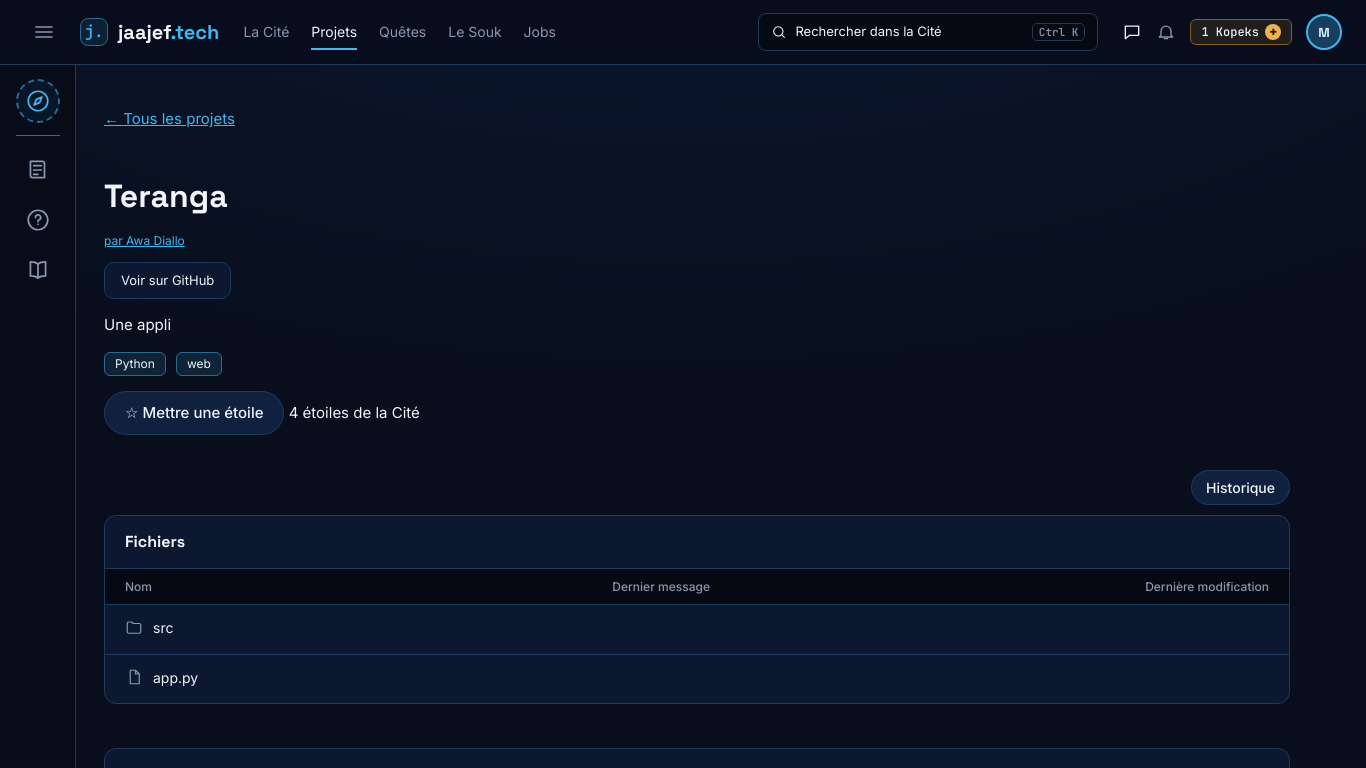
Scenario: Project page › stars and unstars with the count following
Click the button "☆ Mettre une étoile". click: [194, 413]
box: [104,390,284,435]
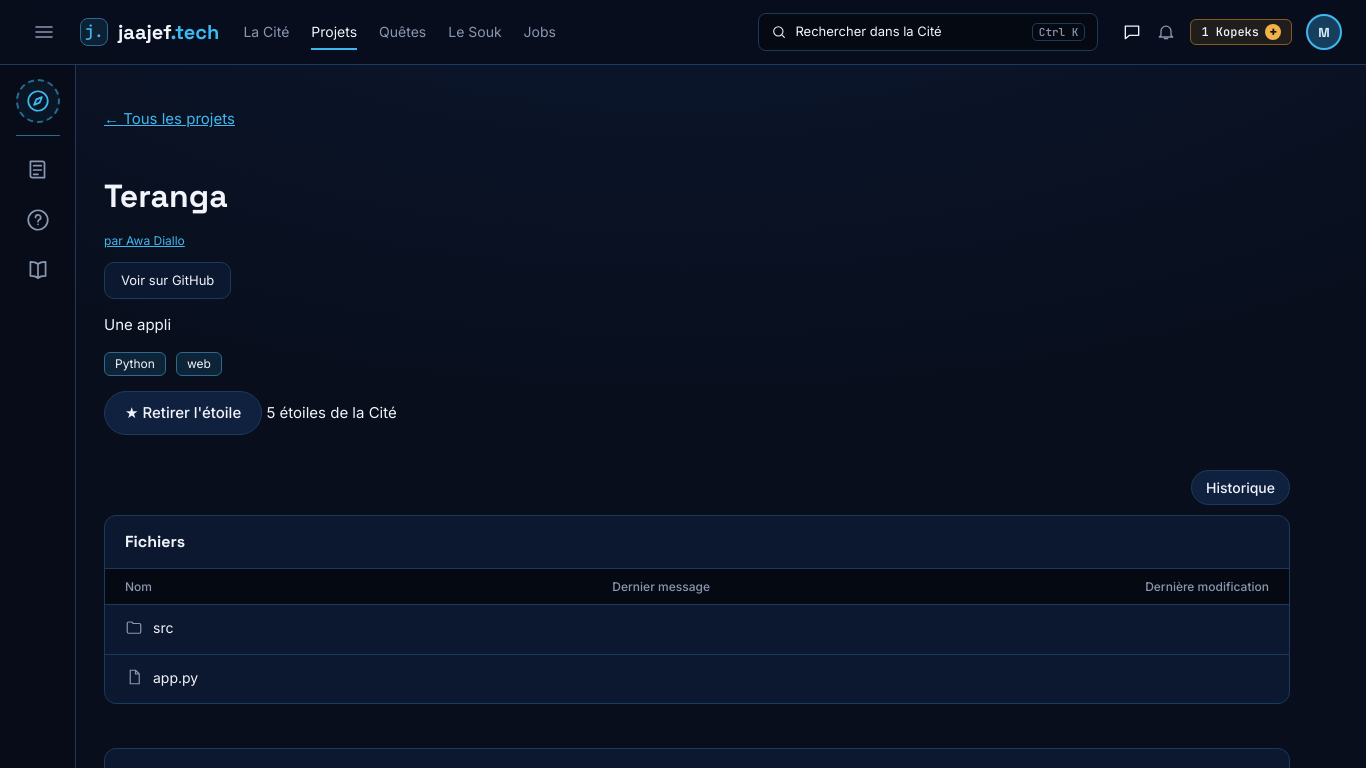
Expected: the text "5 étoiles de la Cité" is shown, [266,402,397,422]
Click the button "★ Retirer l'étoile". click: [183, 413]
box: [104,390,262,435]
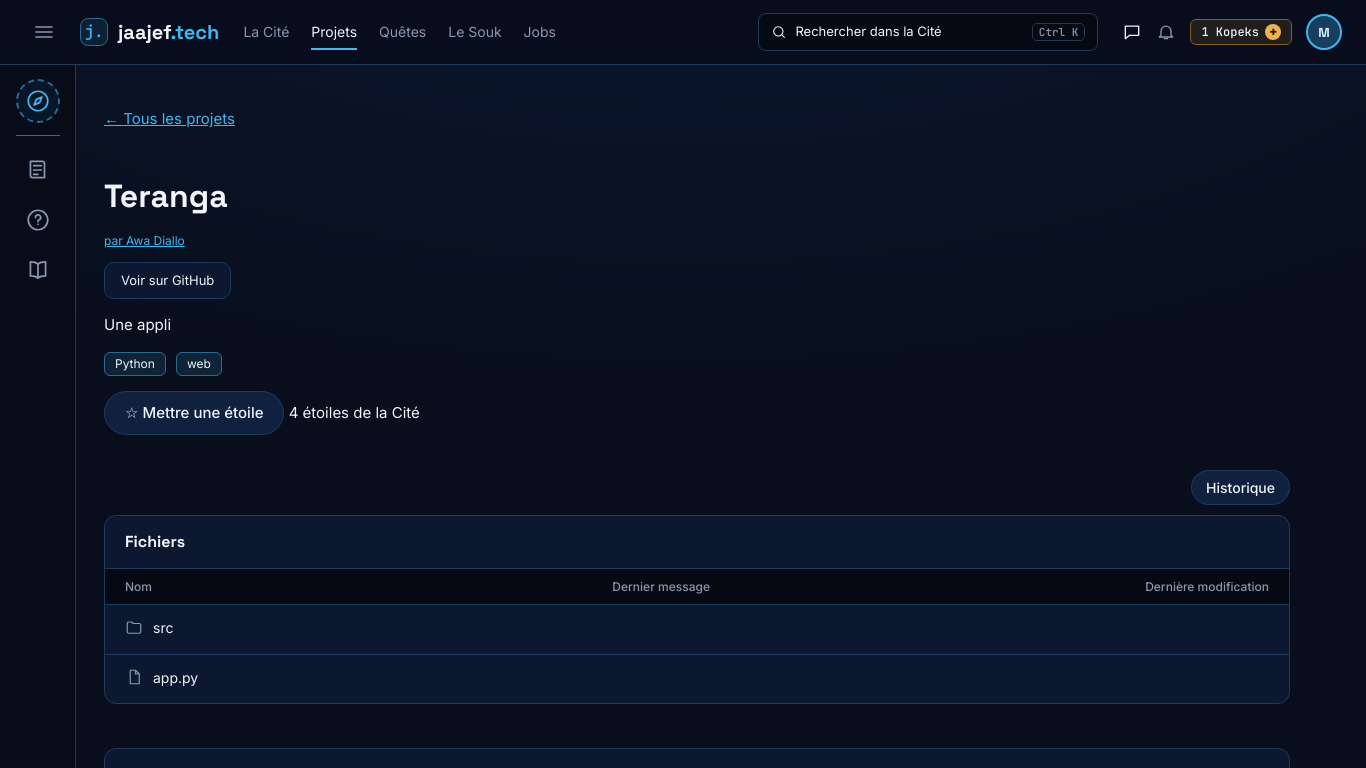
Expected: the text "4 étoiles de la Cité" is shown, [289,402,420,422]
